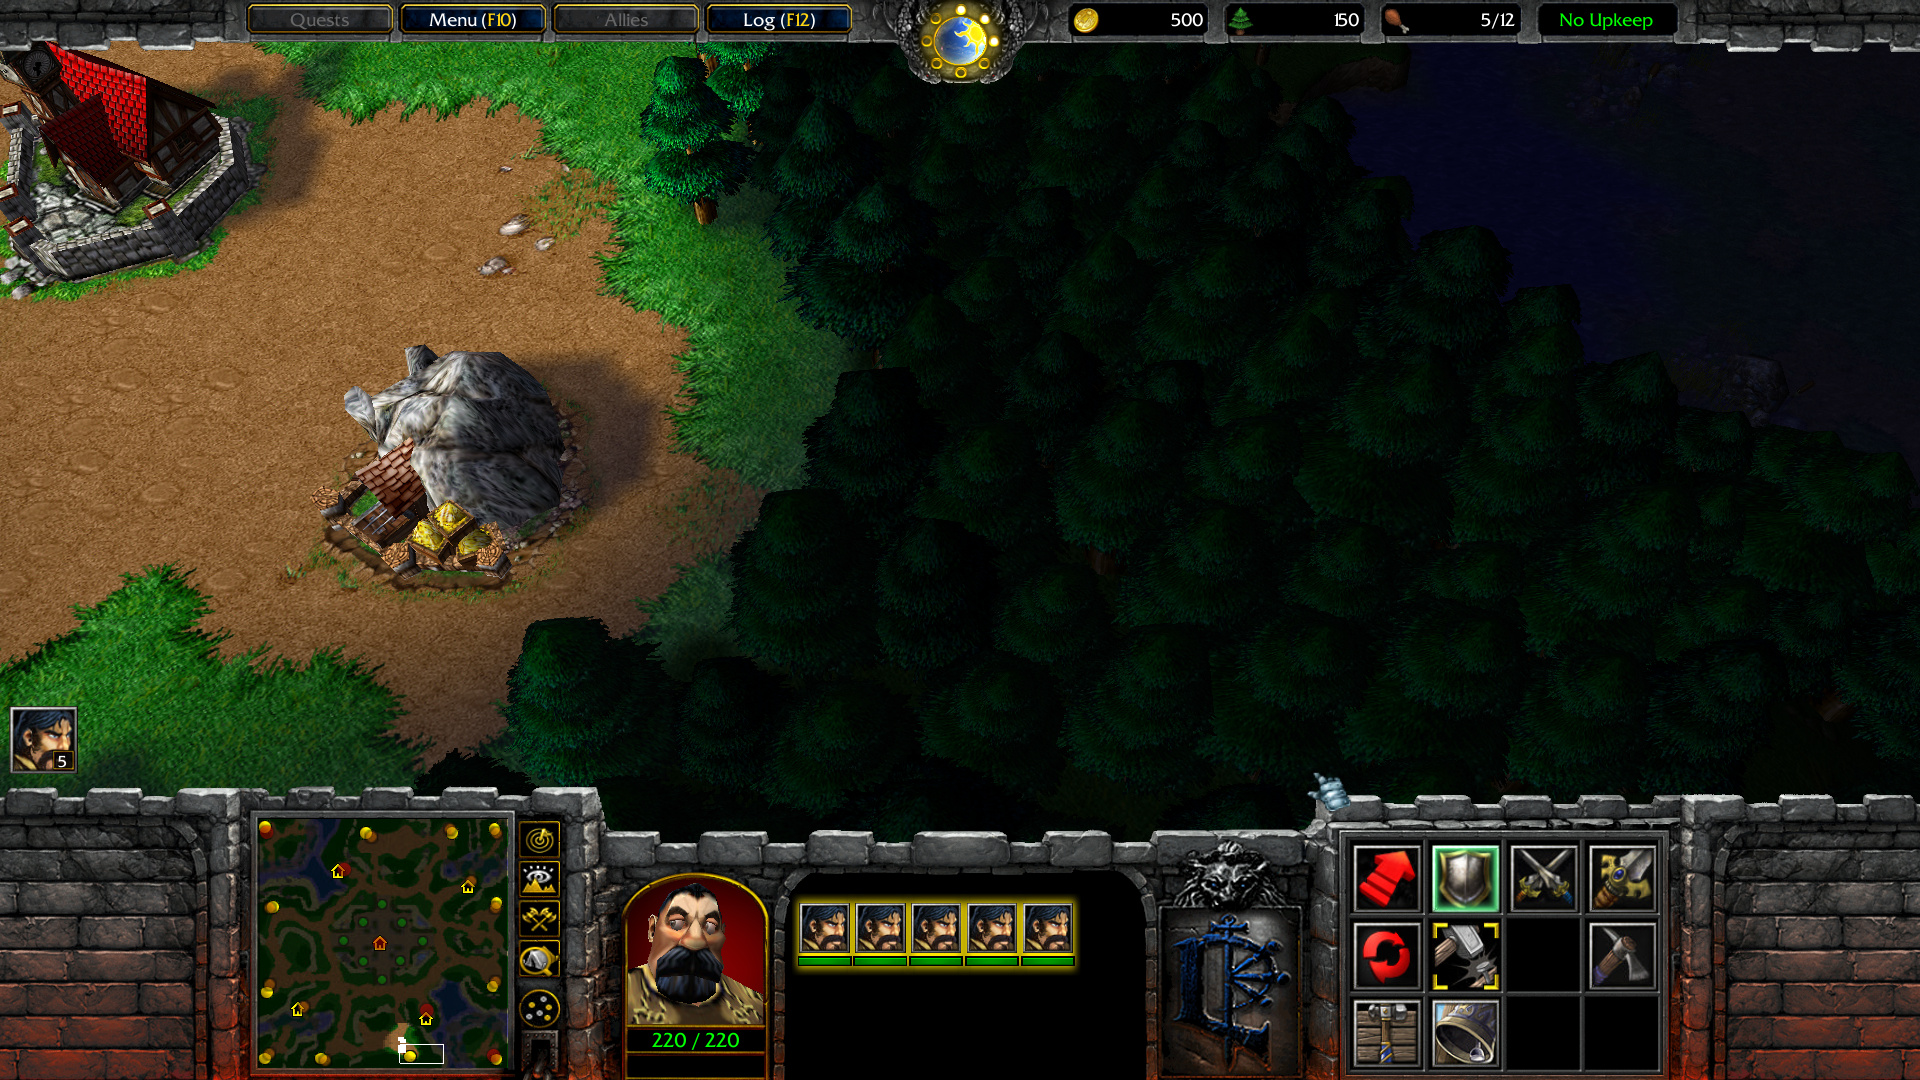Townhall: (1, 37, 271, 299)
